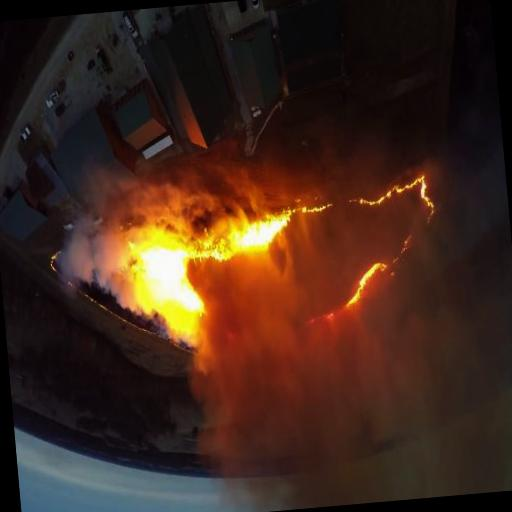fire: (45, 172, 446, 366)
smoke: (196, 224, 512, 512), (44, 193, 134, 312)
